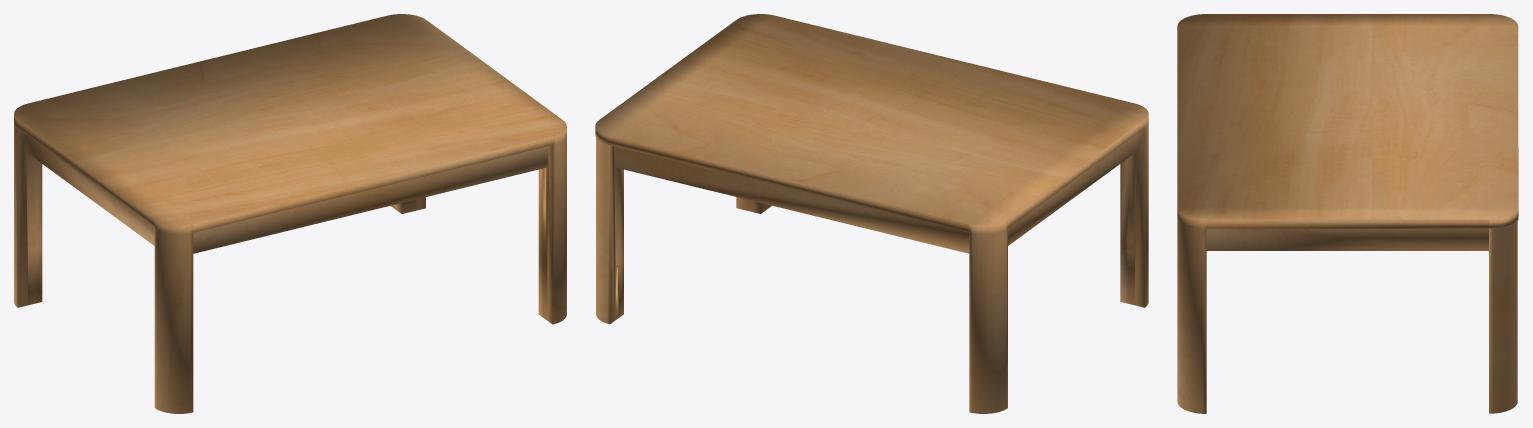
File: desk.glb
3 views of the same model, side by side, from view 1: azimuth 30°, elevation 25°; view 2: azimuth 150°, elevation 25°; view 3: azimuth 270°, elevation 25° (orthographic). The views are drawn at different scales.
Parts seen in each view (by area): view 1: default; view 2: default; view 3: default.
Boxes of the visible parts, x1=… form: default: x1=14, y1=14, x2=566, y2=413; default: x1=595, y1=14, x2=1148, y2=413; default: x1=1177, y1=14, x2=1518, y2=413.
Size of the model in its own units: 2.44 by 1.07 by 1.71.
Materials: 1 (1 with a texture image).
